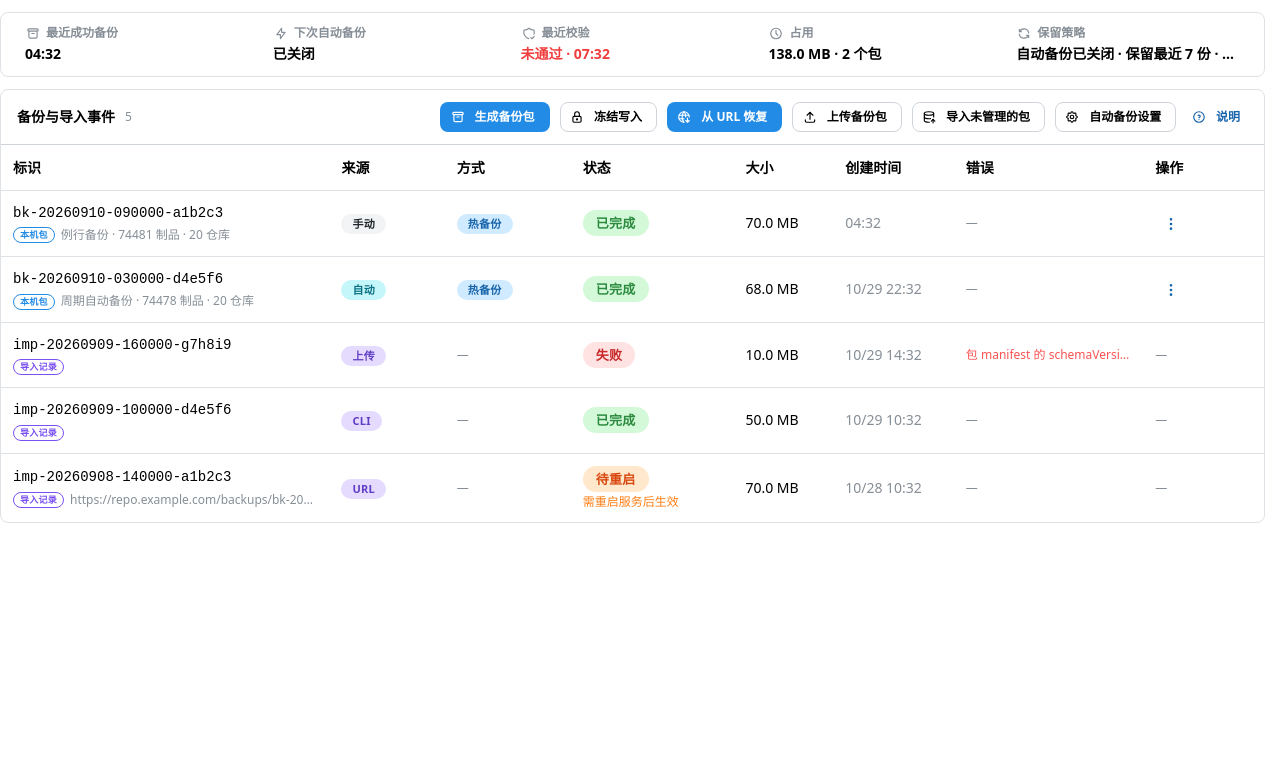
Test: 未管理的备份包 › 导入成功后条目从未管理列表消失，并给出结果摘要
This screenshot has width=1280, height=782.
Expected: the element with test id "backup-actions" is shown, [440,102,1248,132]
What coordinates should you click on to do the following:
click the button "导入未管理的包"
I would click on:
 (978, 117)
Its box is [912,102,1045,132].
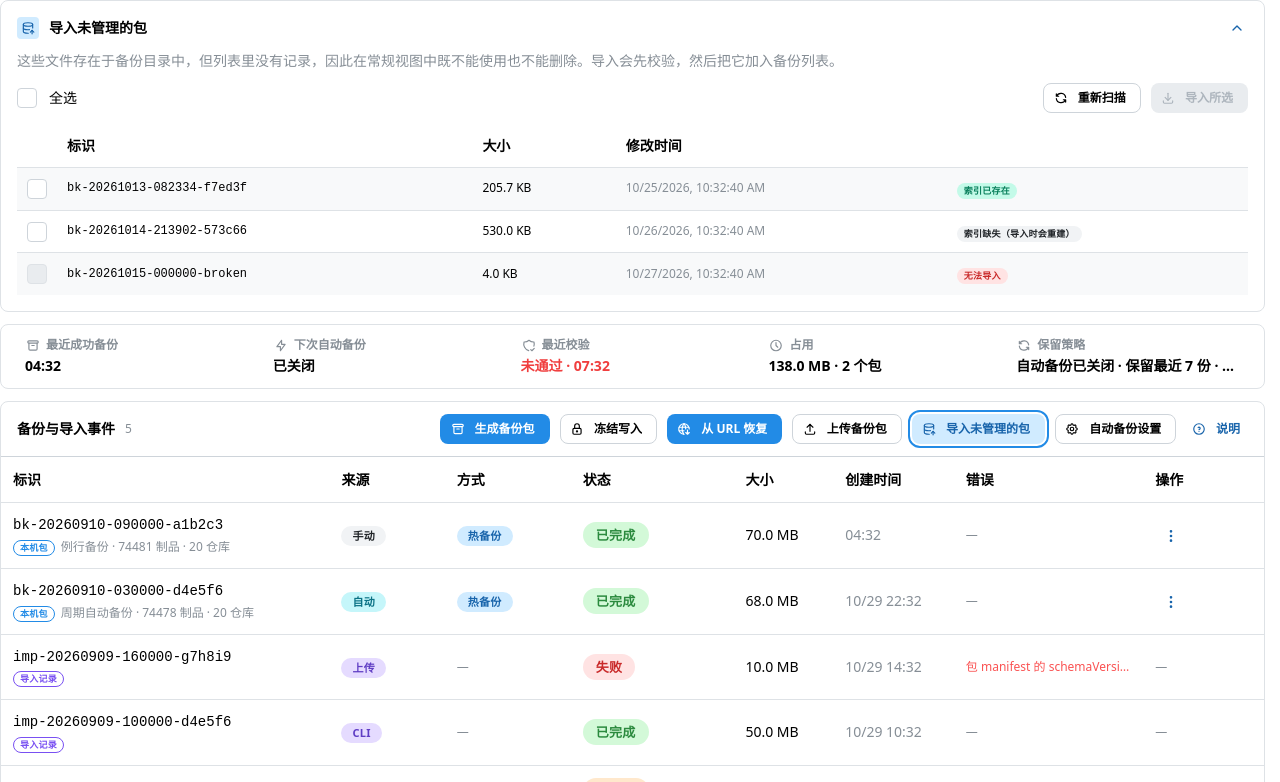
What coordinates should you click on to do the following:
click the checkbox named "bk-20261013-082334-f7ed3f"
I would click on:
 (37, 189)
Its box is [27,179,47,199].
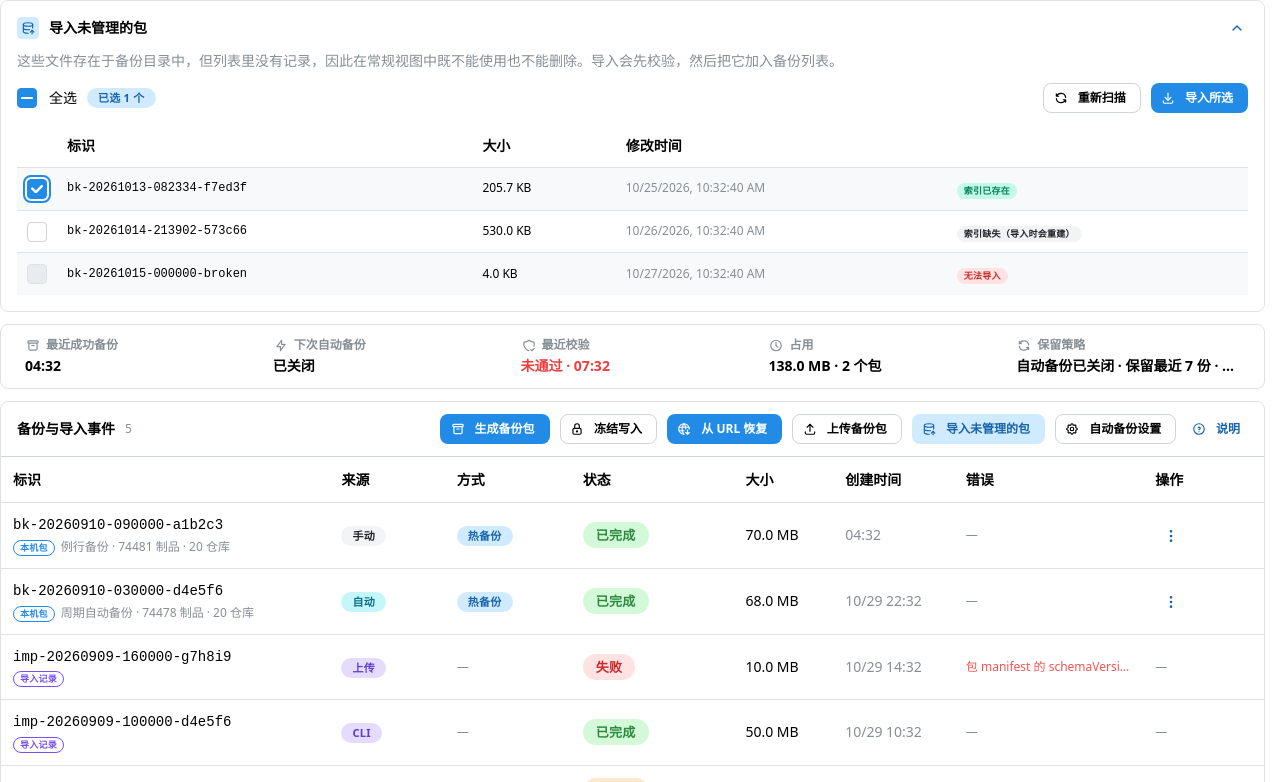
What coordinates should you click on to do the following:
click the button with test id "unmanaged-submit"
I would click on:
 (1199, 98)
Its box is [1151,83,1248,113].
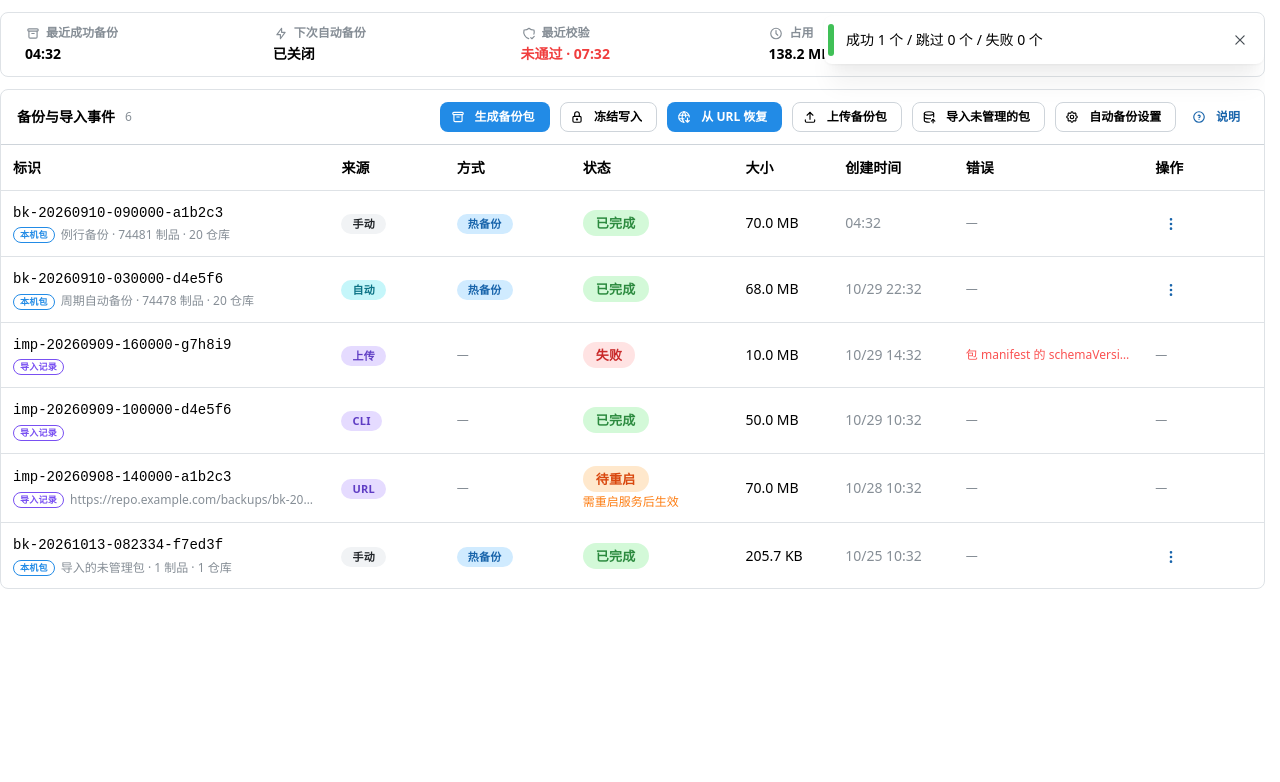
Expected: the row with test id "unmanaged-row-bk-20261013-082334-f7ed3f" is gone
